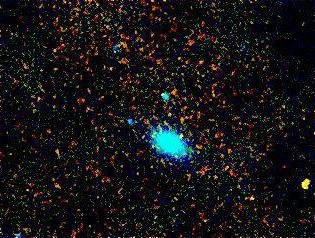star: (290, 174, 315, 204)
